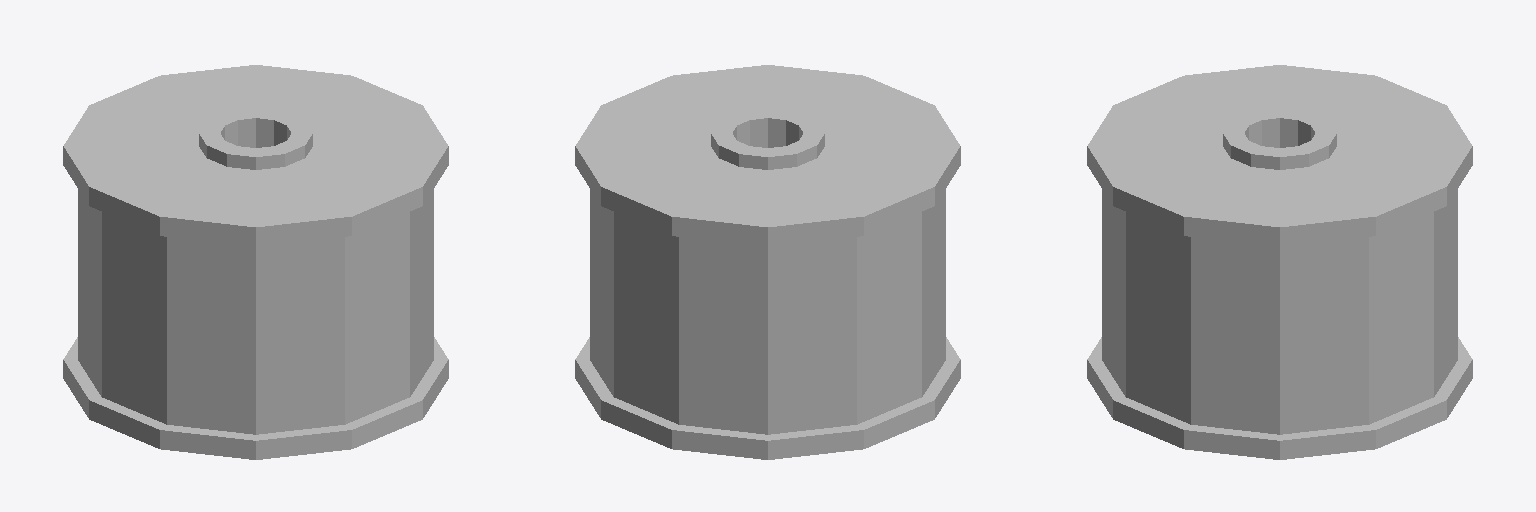
The model's file is paper_item.obj.
3 renders of one model, left to right at view 1: azimuth 30°, elevation 25°; view 2: azimuth 150°, elevation 25°; view 3: azimuth 270°, elevation 25°, orthographic.
Parts seen in each view (by area): view 1: paper_paper_item; view 2: paper_paper_item; view 3: paper_paper_item.
Boxes of the visible parts, <box> form: paper_paper_item: <box>63,65,448,459</box>; paper_paper_item: <box>575,65,960,459</box>; paper_paper_item: <box>1087,65,1472,459</box>.
Bounding box in the file's own units: 0.27 × 0.19 × 0.27.